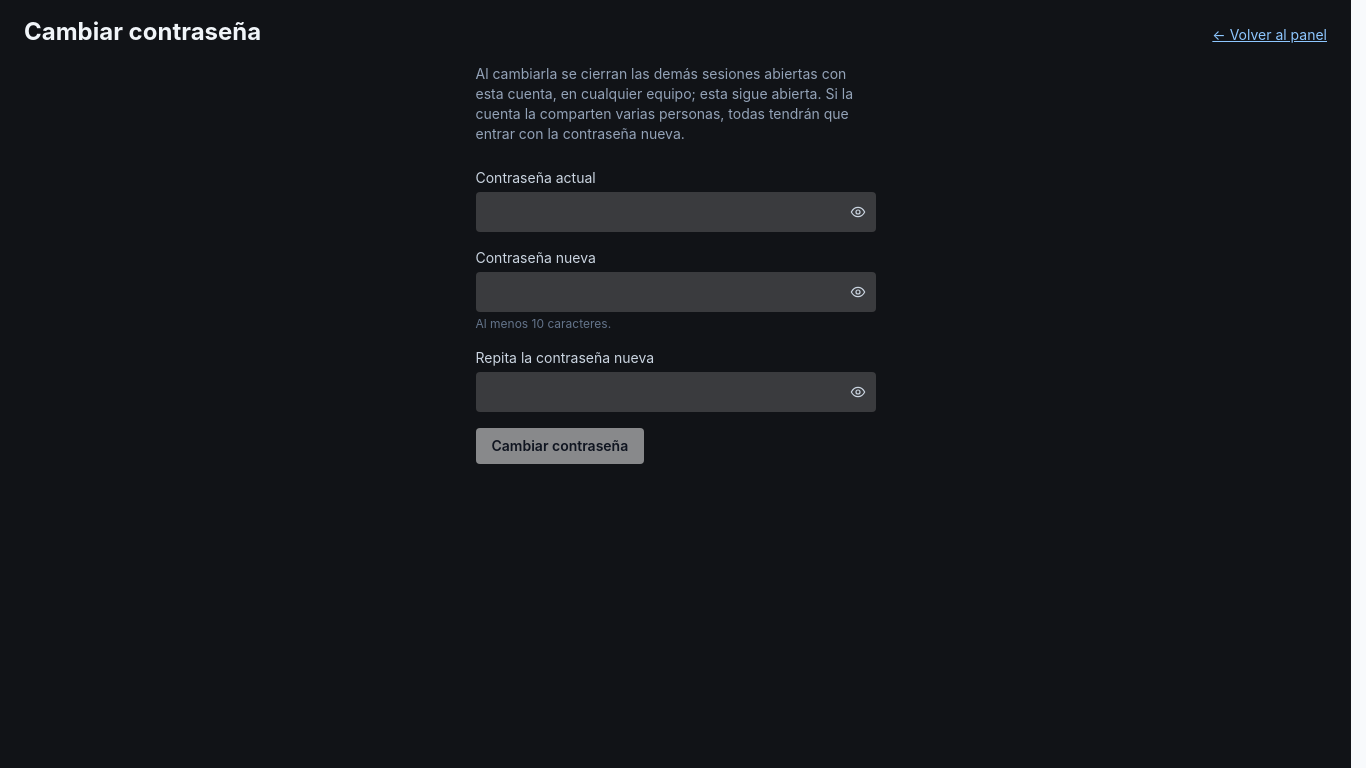
Test case: cambiar la propia contraseña (US-61) › al cambiarla dice cuántas otras sesiones se cerraron y vacía los campos
Step 1. Type "una-clave-larga" into the password field labelled "Contraseña actual" → (676, 212), box x1=476 y1=192 x2=876 y2=232
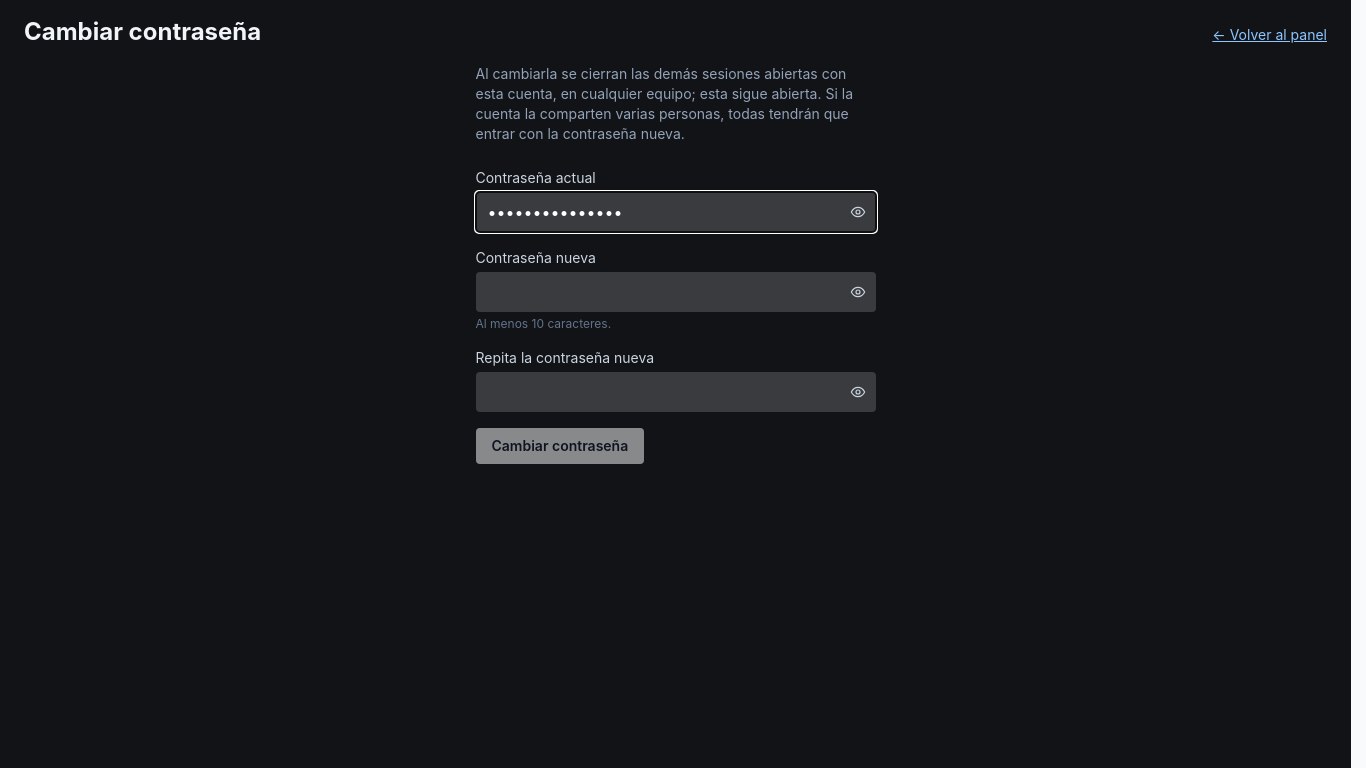
Step 2. Type "otra-clave-larga" into the password field labelled "Contraseña nueva" → (676, 292), box x1=476 y1=272 x2=876 y2=312
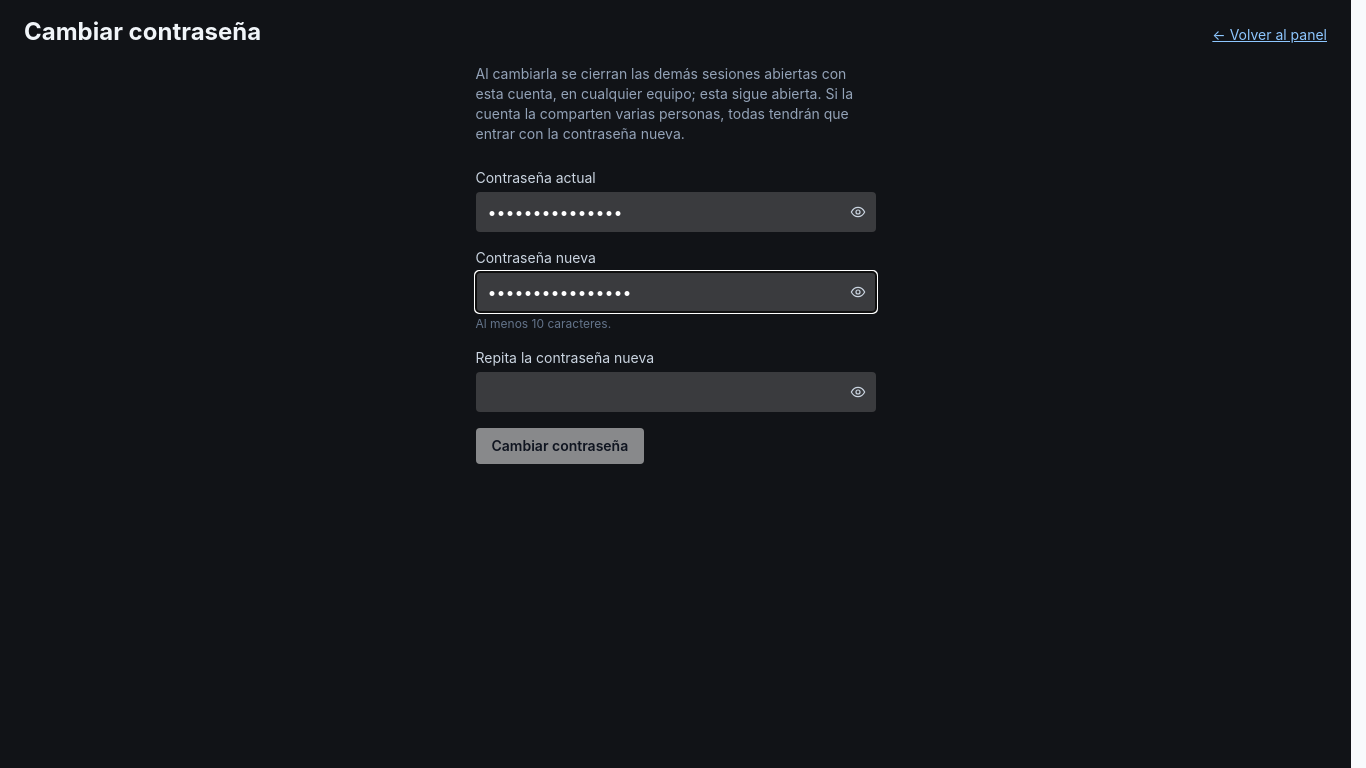
Step 3. Type "otra-clave-larga" into the password field labelled "Repita la contraseña nueva" → (676, 392), box x1=476 y1=372 x2=876 y2=412
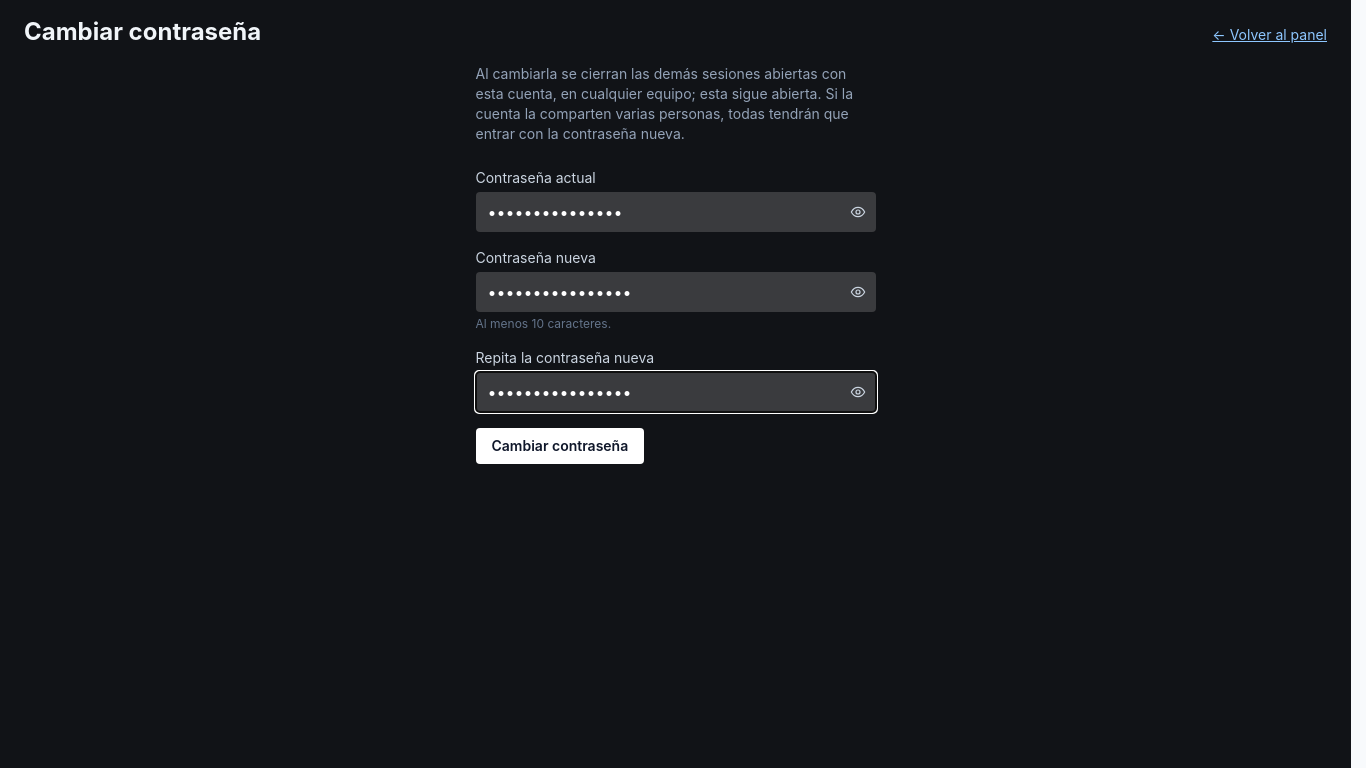
Step 4. Click the button "Cambiar contraseña" → (560, 446), box x1=476 y1=428 x2=644 y2=464
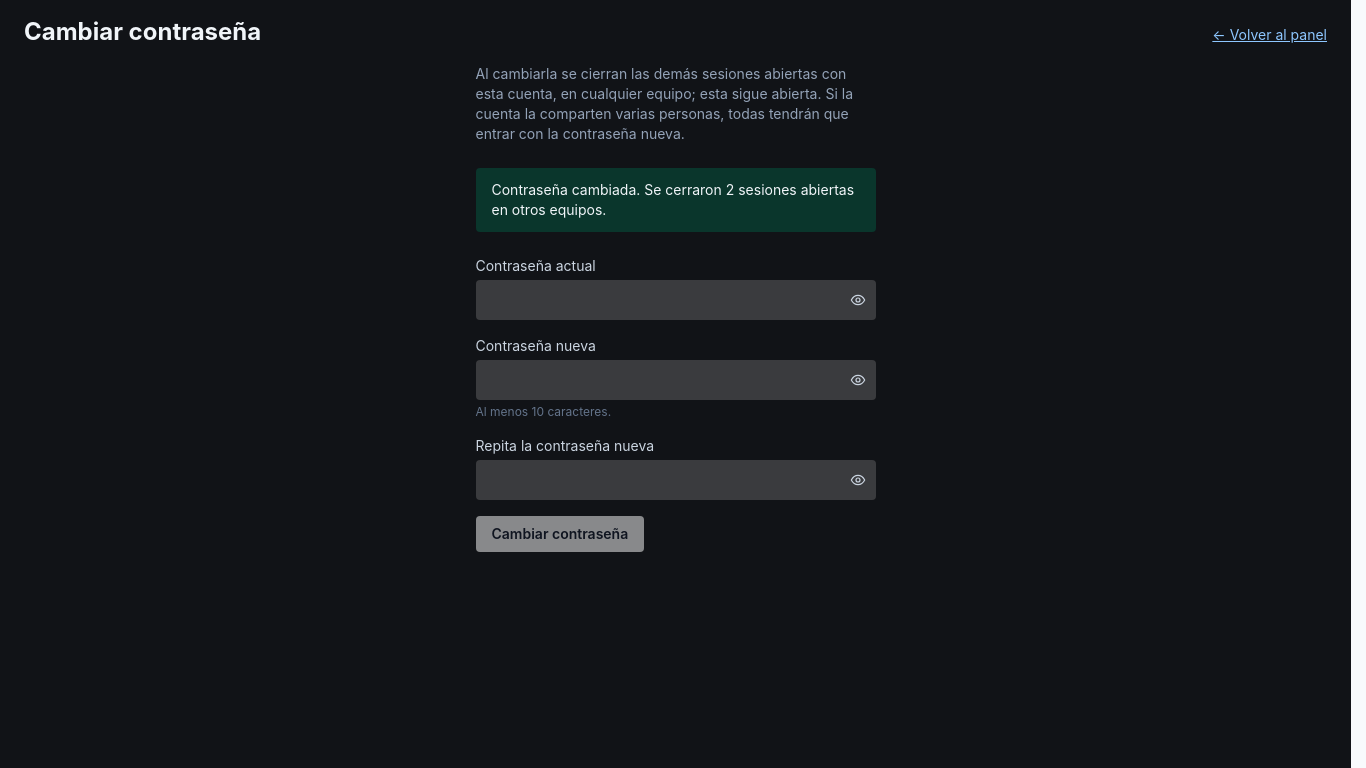
Expected: the message reads "Contraseña cambiada. Se cerraron 2 sesiones abiertas en otros equipos.", x1=476 y1=168 x2=876 y2=232
Expected: the password field labelled "Contraseña actual" is empty, x1=476 y1=280 x2=876 y2=320
Expected: the password field labelled "Contraseña nueva" is empty, x1=476 y1=360 x2=876 y2=400
